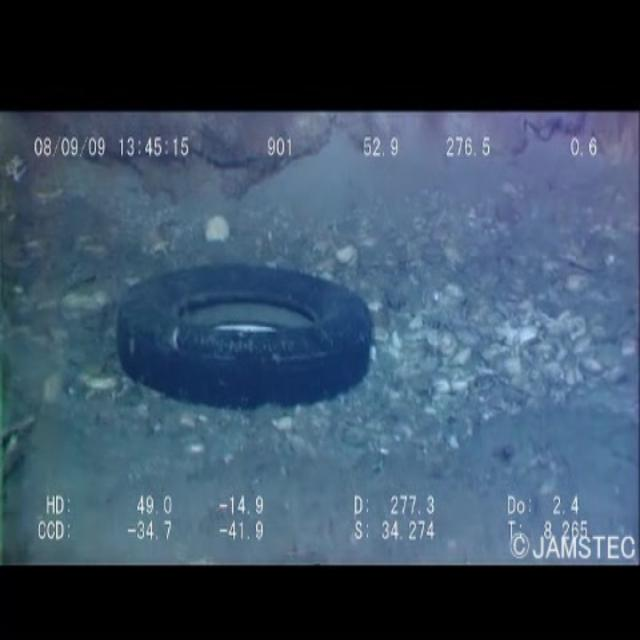Rubber: (115, 257, 394, 423)
